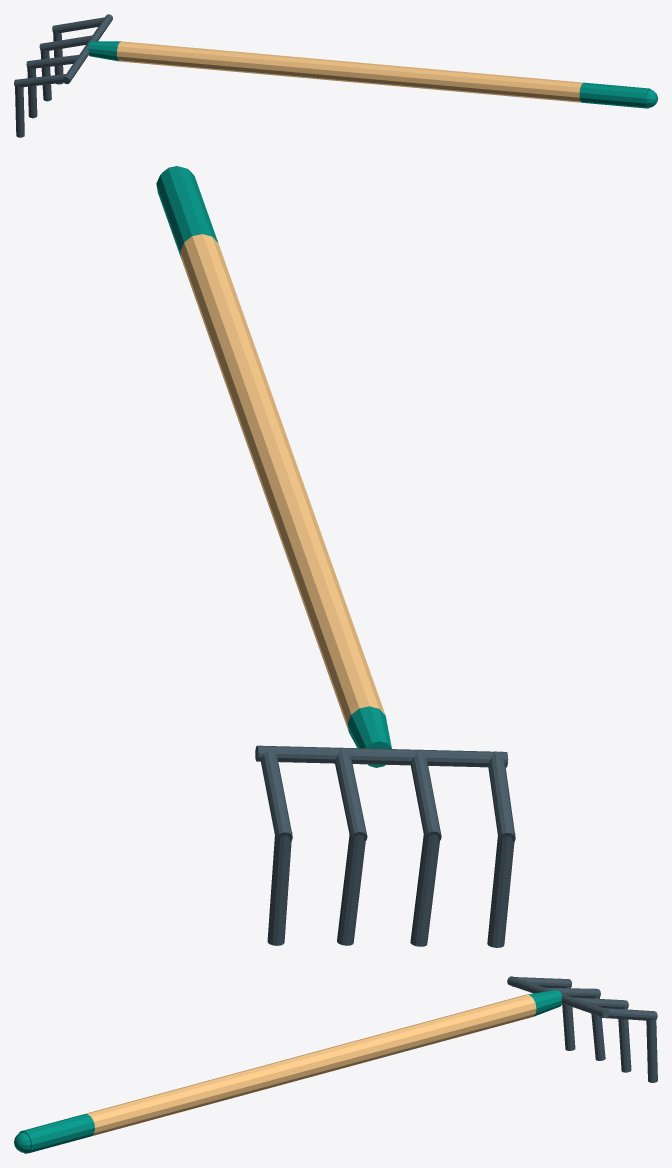
File: Cultivator by Daniel Doran - 92k_3jmWtZ6.glb
The picture shows the model from 3 angles, top to bottom: view 1: azimuth 30°, elevation 25°; view 2: azimuth 150°, elevation 25°; view 3: azimuth 270°, elevation 25°; orthographic projection. The views are drawn at different scales.
Parts seen in each view (by area): view 1: group1506368375; view 2: group1506368375; view 3: group1506368375.
Part boxes in pixels (box(x1,y1,x2,y2)): group1506368375: box(14, 14, 657, 137); group1506368375: box(156, 166, 515, 947); group1506368375: box(14, 976, 657, 1153).
Size of the model in its own units: 0.7726 by 0.2194 by 0.9024.
